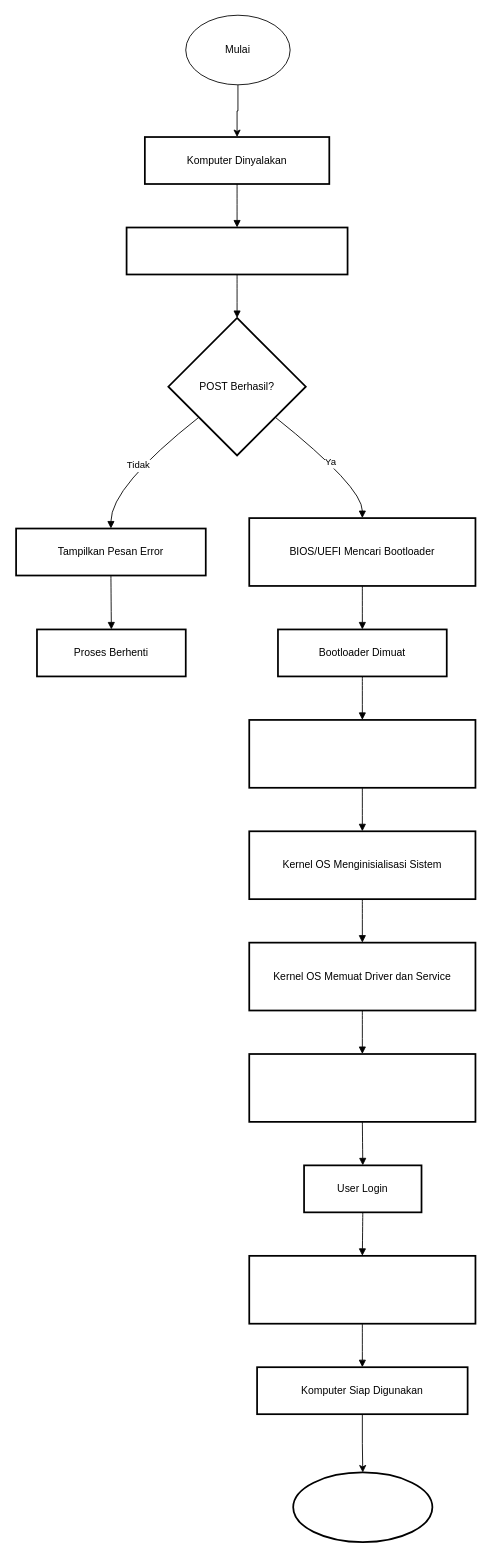
The diagram is 491 pixels wide and 1558 high, and some of its shapes have lost their labels. The shapes that lost their labels are listed below. From the top down, each one's centre as x and y in pixels, then its label:
At point 236,250: "BIOS/UEFI Melakukan POST".
At point 362,753: "Bootloader Memuat Kernel OS".
At point 362,1087: "Sistem Operasi Siap Digunakan".
At point 362,1289: "Tampilan Desktop/User Interface".
At point 362,1507: "Selesai".
